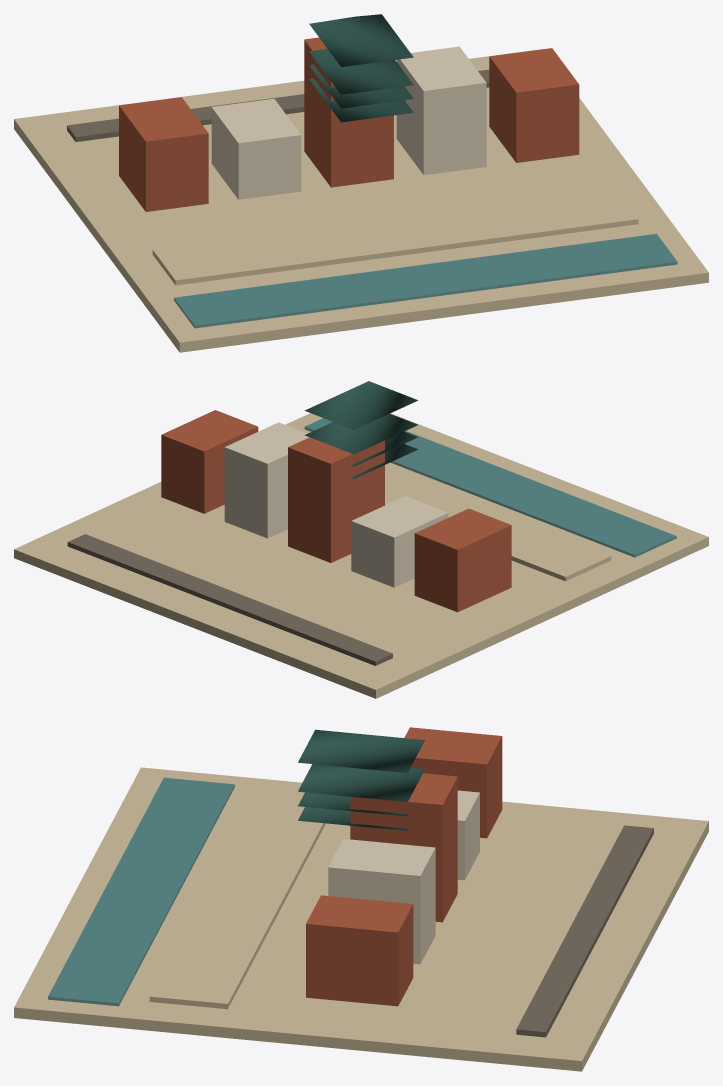
The model's file is model-medium.glb.
3 views of the same model, one above another, from view 1: azimuth 30°, elevation 25°; view 2: azimuth 150°, elevation 25°; view 3: azimuth 270°, elevation 25° (orthographic). The views are drawn at different scales.
Visible parts, largest first — view 1: context_site_plinth, street_public_axis, context_water_edge, street_facade_3, street_facade_4, street_facade_0, street_facade_1, street_facade_2, street_roof_2, street_roof_3, front_scale_strip, street_roof_0 (+1 smaller); view 2: context_site_plinth, context_water_edge, street_facade_2, street_facade_0, street_facade_3, front_scale_strip, street_facade_4, street_public_axis, street_facade_1, street_roof_2, street_roof_3; view 3: context_site_plinth, street_public_axis, context_water_edge, street_facade_4, street_facade_3, street_facade_2, front_scale_strip, street_facade_0, street_roof_2, street_roof_3, street_facade_1, street_roof_0 (+1 smaller).
Boxes of the visible parts, left/top/right/bottom form: context_site_plinth: left=14, top=49, right=708, bottom=352; street_public_axis: left=152, top=188, right=638, bottom=285; context_water_edge: left=174, top=233, right=677, bottom=328; street_facade_3: left=396, top=46, right=486, bottom=175; street_facade_4: left=489, top=48, right=579, bottom=162; street_facade_0: left=119, top=97, right=208, bottom=211; street_facade_1: left=211, top=98, right=301, bottom=199; street_facade_2: left=304, top=37, right=393, bottom=187; street_roof_2: left=309, top=14, right=413, bottom=66; street_roof_3: left=309, top=48, right=413, bottom=94; front_scale_strip: left=67, top=69, right=489, bottom=141; street_roof_0: left=309, top=64, right=413, bottom=108; context_site_plinth: left=14, top=413, right=708, bottom=698; context_water_edge: left=304, top=418, right=676, bottom=557; street_facade_2: left=288, top=437, right=384, bottom=562; street_facade_0: left=414, top=508, right=511, bottom=612; street_facade_3: left=224, top=422, right=309, bottom=538; front_scale_strip: left=67, top=534, right=392, bottom=665; street_facade_4: left=161, top=410, right=258, bottom=513; street_public_axis: left=385, top=468, right=611, bottom=581; street_facade_1: left=351, top=496, right=448, bottom=587; street_roof_2: left=304, top=381, right=417, bottom=429; street_roof_3: left=304, top=413, right=417, bottom=454; context_site_plinth: left=14, top=767, right=708, bottom=1071; street_public_axis: left=149, top=786, right=325, bottom=1009; context_water_edge: left=48, top=777, right=234, bottom=1006; street_facade_4: left=306, top=895, right=413, bottom=1006; street_facade_3: left=328, top=839, right=435, bottom=964; street_facade_2: left=350, top=773, right=457, bottom=922; front_scale_strip: left=516, top=825, right=653, bottom=1037; street_facade_0: left=404, top=727, right=502, bottom=838; street_roof_2: left=298, top=729, right=424, bottom=772; street_roof_3: left=298, top=764, right=424, bottom=801; street_facade_1: left=457, top=790, right=479, bottom=880; street_roof_0: left=298, top=792, right=408, bottom=816.
Size of the model in its own units: 9.55 by 2.89 by 9.55.
